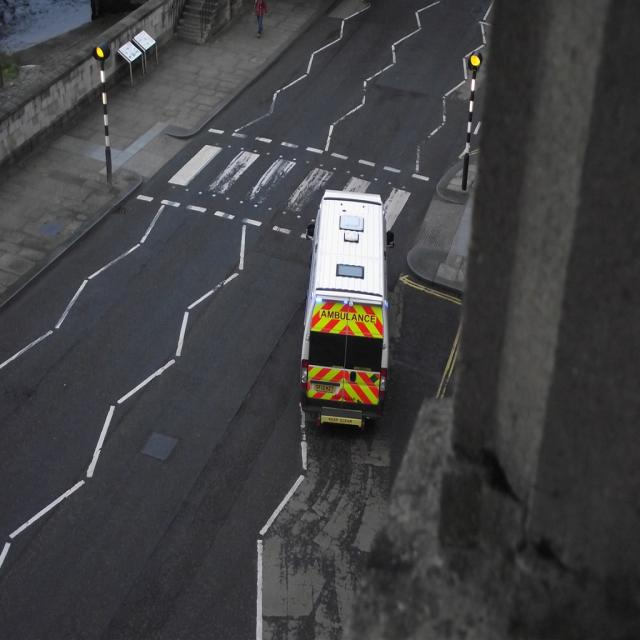Ambulance: (294, 181, 393, 437)
